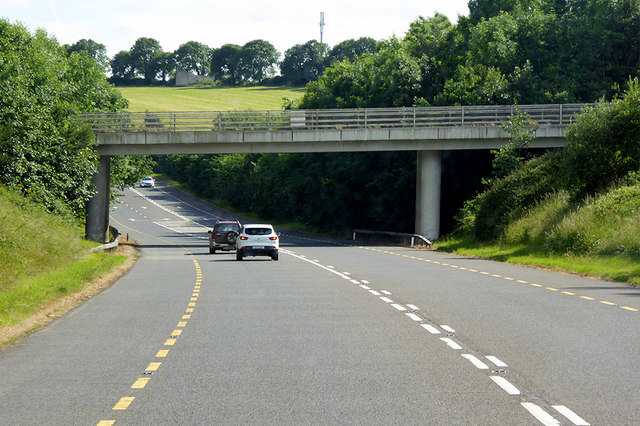bridge: (69, 103, 580, 154)
